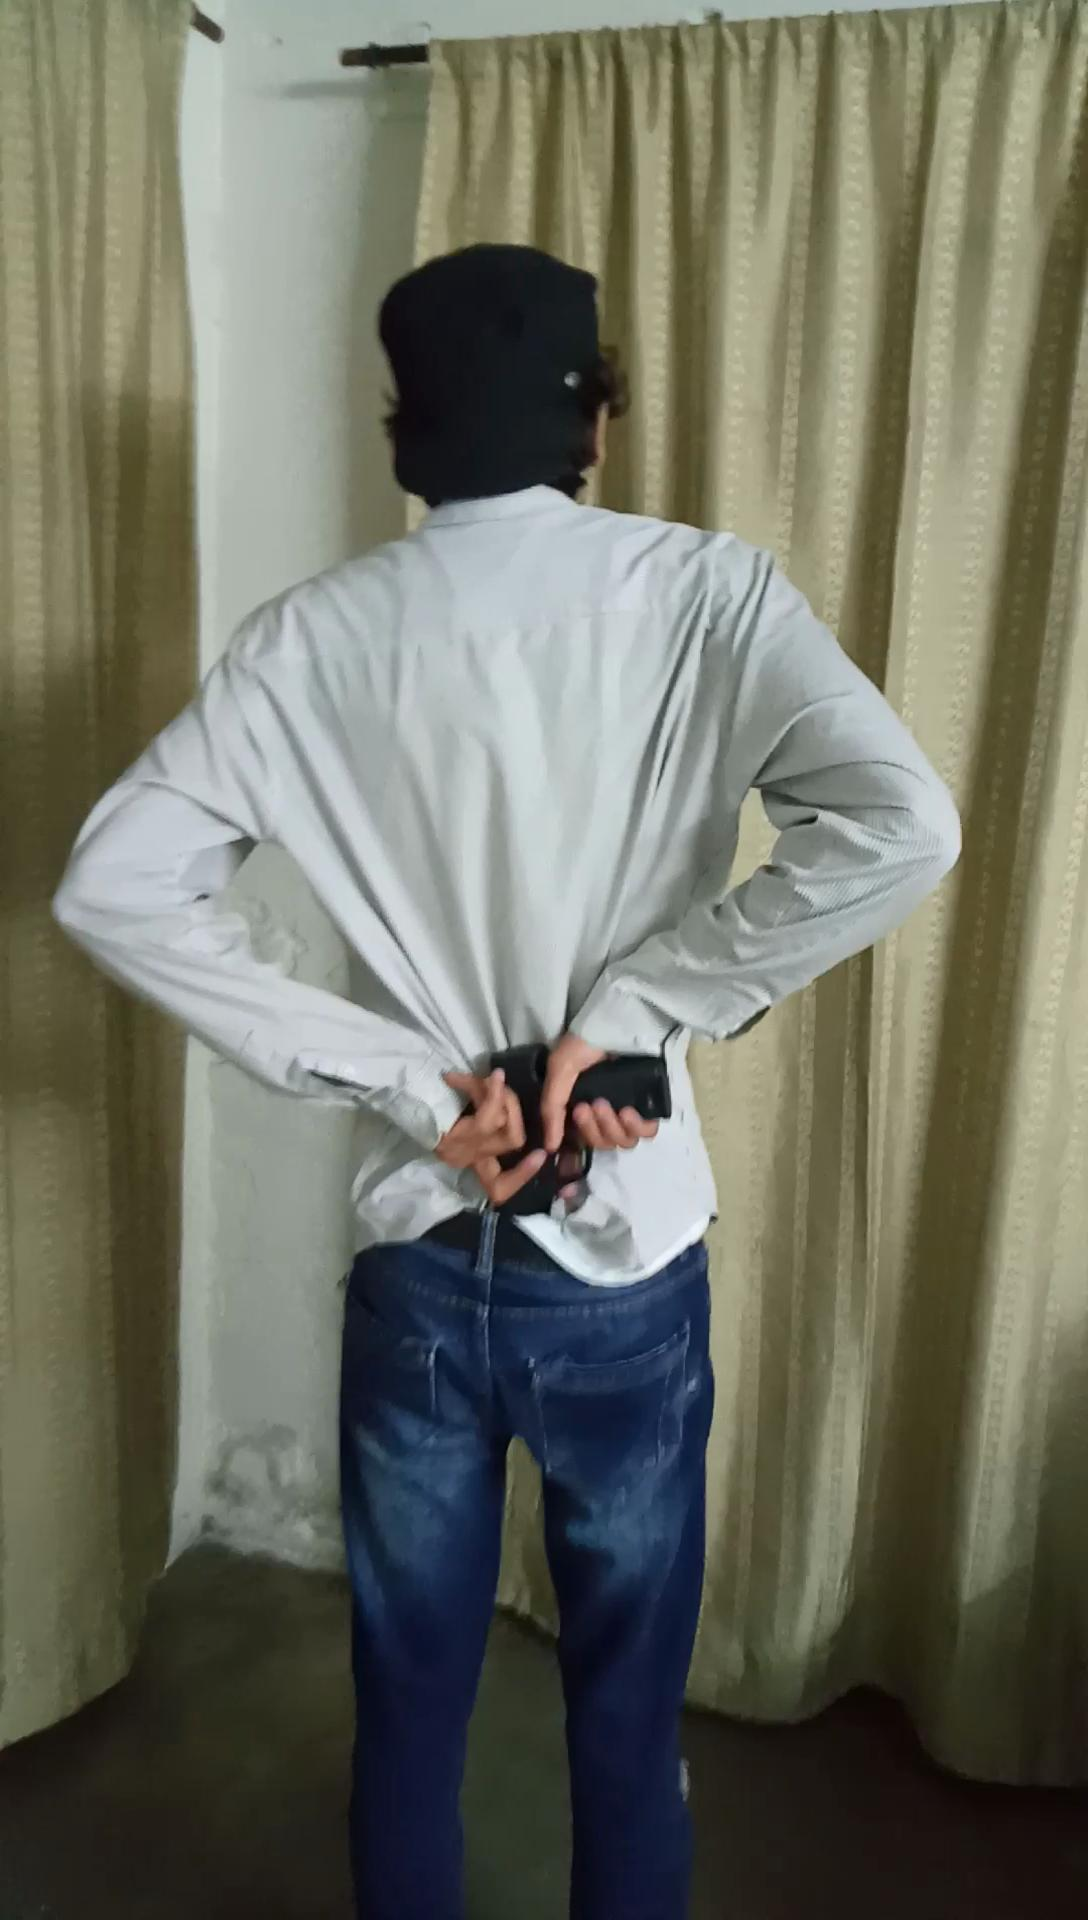weapon: (464, 1015, 696, 1241)
